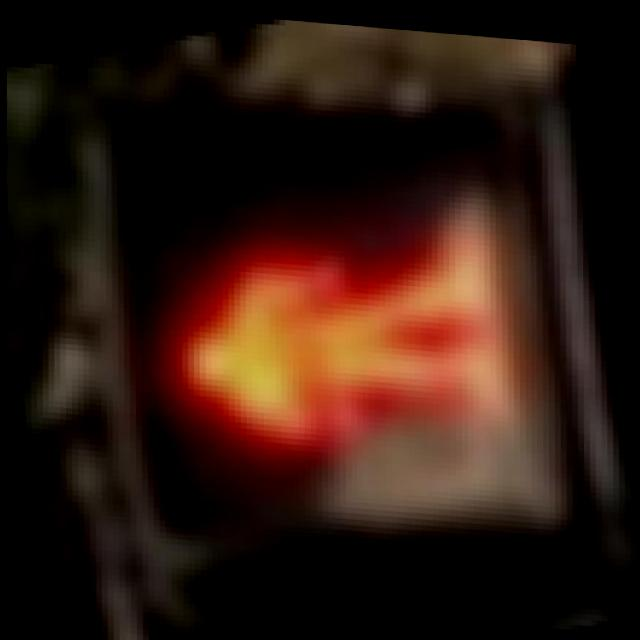red_light: (50, 85, 579, 604)
